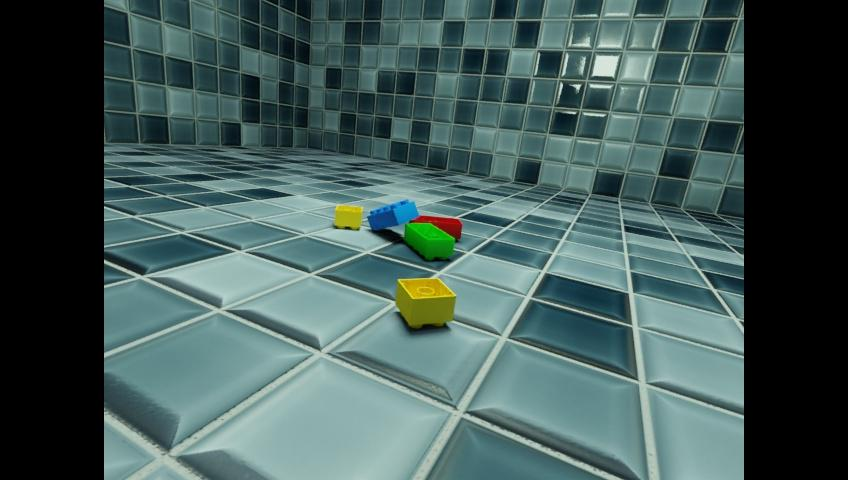2x2_yellow: (395, 277, 455, 328), (334, 204, 361, 229)
4x2_blue: (366, 198, 418, 230)
4x2_green: (403, 222, 454, 260)
4x2_red: (408, 214, 461, 241)
